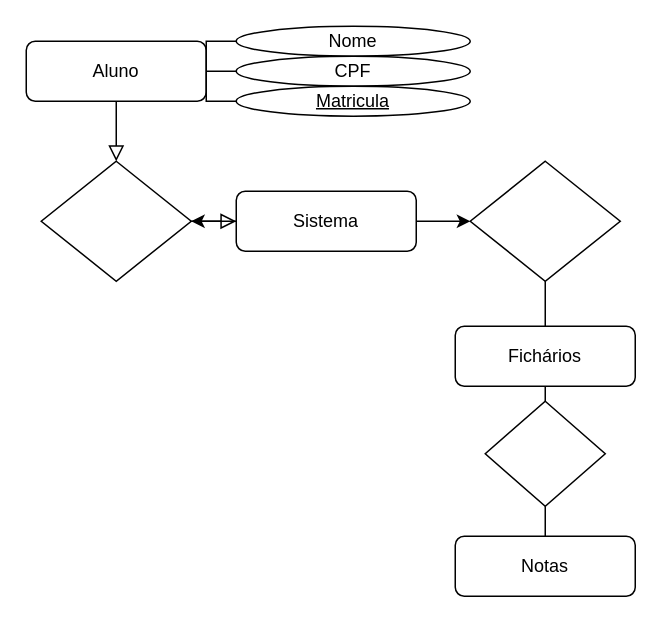
Image size: 662x623. Some labels were removed from this diagram. The centre of each missing label's shape, as x and y in pixels:
"Busca" belongs at pixel 544 220.
"definição" belongs at pixel 544 453.
"Login" belongs at pixel 115 220.
